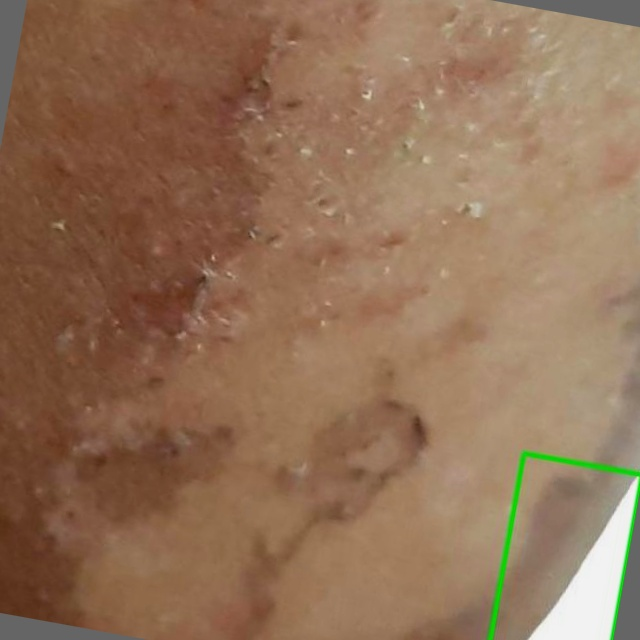Contact Dermatitis: (490, 453, 639, 639)
